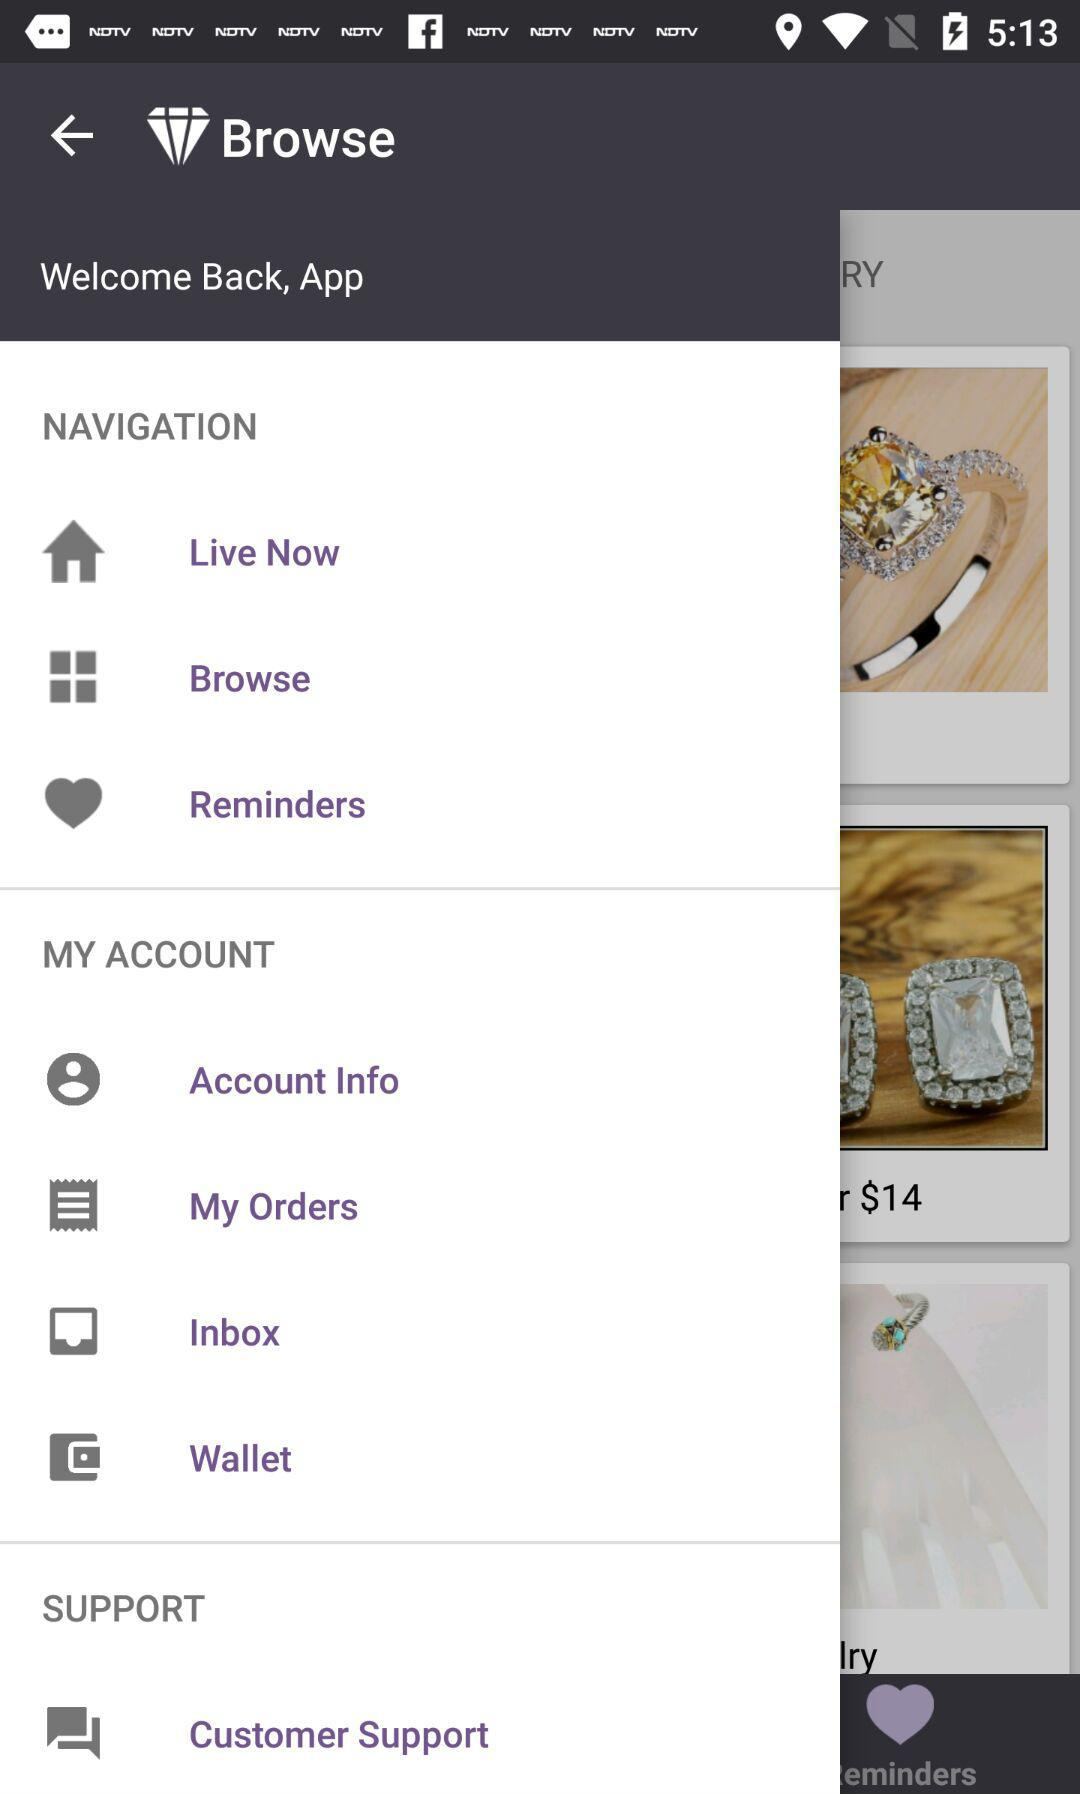Drawer: (1, 64, 840, 1794)
Icon: (42, 519, 108, 586), (45, 777, 104, 830), (46, 1706, 102, 1761), (46, 1052, 102, 1107), (49, 1178, 100, 1234), (49, 650, 99, 705), (49, 1433, 102, 1483), (50, 1307, 100, 1357), (50, 114, 96, 159)
Image: (146, 106, 211, 167)
Text: (40, 260, 364, 299), (190, 1718, 491, 1757), (42, 938, 277, 970), (223, 118, 396, 160), (188, 1065, 400, 1098), (190, 1190, 359, 1230), (44, 413, 259, 442), (190, 788, 366, 820), (42, 1593, 208, 1624), (191, 537, 342, 568), (190, 664, 313, 695), (190, 1443, 293, 1474), (191, 1317, 282, 1348)
UpperTaskBar: (1, 1, 1080, 64)
